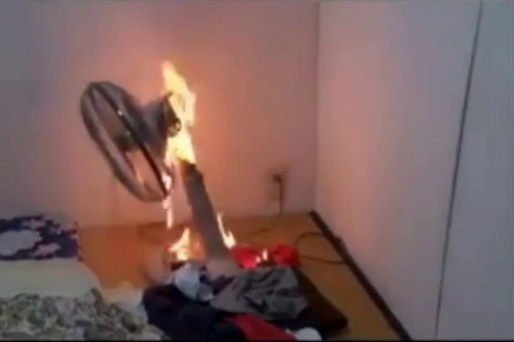fire: (156, 50, 209, 169)
